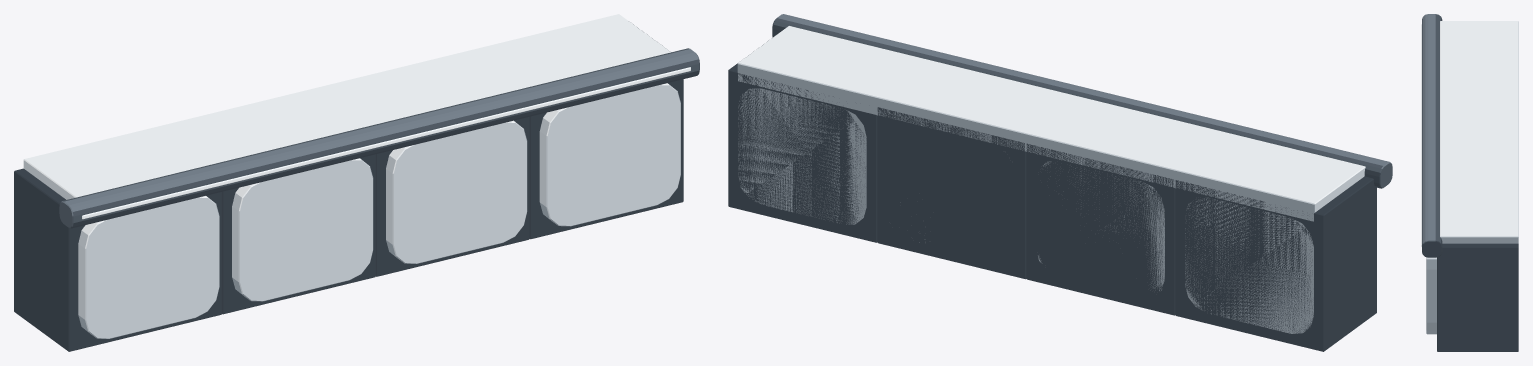
The model's file is Terrain_TopRun4LR.gltf.
The picture shows the model from 3 angles, left to right: view 1: azimuth 30°, elevation 25°; view 2: azimuth 150°, elevation 25°; view 3: azimuth 270°, elevation 25°; orthographic projection. The views are drawn at different scales.
Parts seen in each view (by area): view 1: Terrain_TopRun4LR_baked; view 2: Terrain_TopRun4LR_baked; view 3: Terrain_TopRun4LR_baked.
Part boxes in pixels (x1,y1,x2,y2): Terrain_TopRun4LR_baked: (14,14,699,351); Terrain_TopRun4LR_baked: (728,14,1392,351); Terrain_TopRun4LR_baked: (1421,14,1518,351).
Size of the model in its own units: 4.08 by 0.9495 by 0.74.
